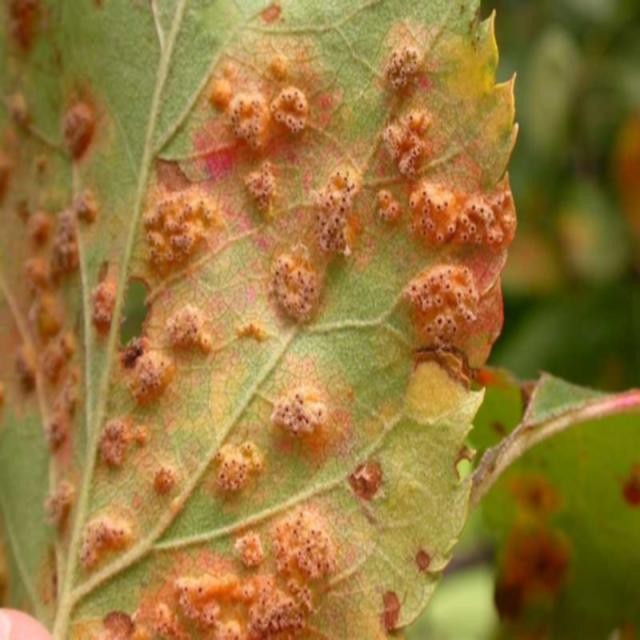Gymnosporangium_Rusts: (0, 0, 522, 639)
